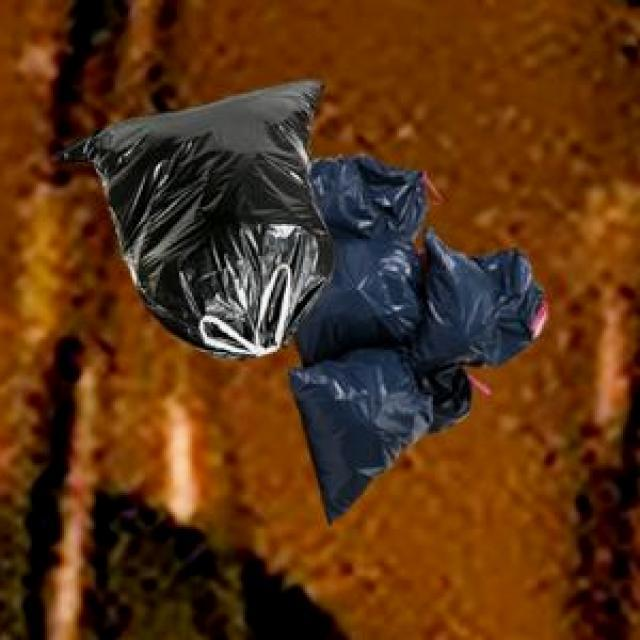Trashbag: (51, 73, 337, 363), (285, 345, 436, 526), (412, 225, 547, 378), (292, 230, 420, 368), (308, 149, 426, 242)
